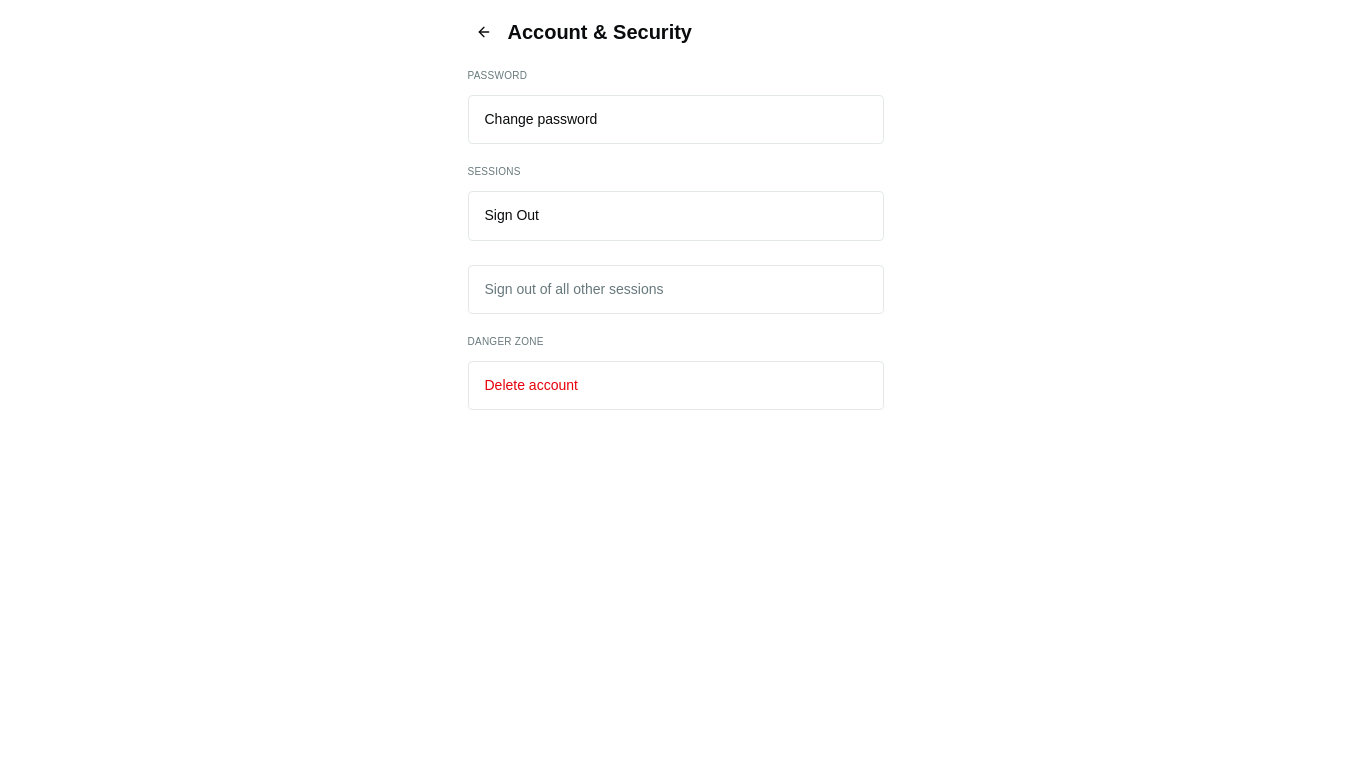
Test: change password asks for confirmation before leaving Settings
Check: the heading "Account & Security" is shown, box [508, 21, 692, 43]
Click the button "Change password" at [541, 119], box [468, 95, 884, 144]
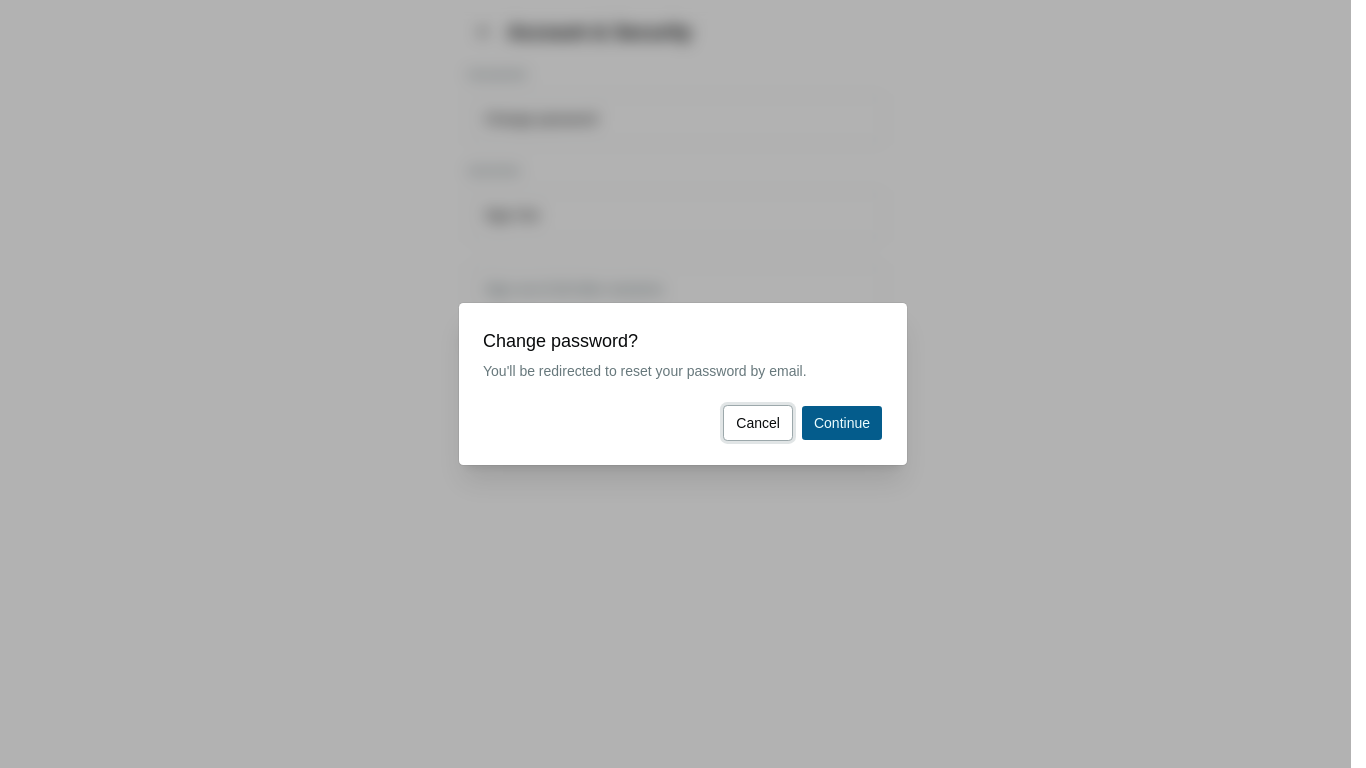
Check: the heading "Change password?" is shown, box [483, 327, 638, 355]
